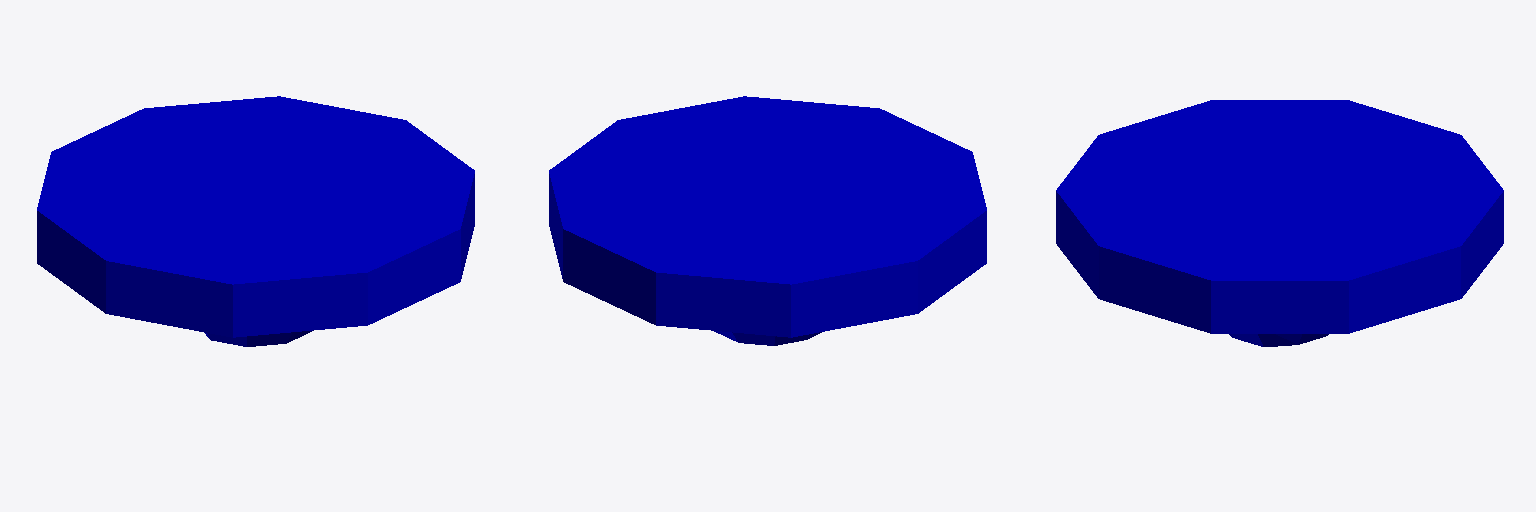
File: 1Ratchet.obj
3 renders of one model, left to right at view 1: azimuth 30°, elevation 25°; view 2: azimuth 150°, elevation 25°; view 3: azimuth 270°, elevation 25°, orthographic.
Visible parts, largest first — view 1: 1Ratchet; view 2: 1Ratchet; view 3: 1Ratchet.
Boxes of the visible parts, x1,y1,x2,y2 form: 1Ratchet: [37, 96, 474, 346]; 1Ratchet: [549, 96, 986, 345]; 1Ratchet: [1056, 100, 1503, 346].
Bounding box in the file's own units: 4.37 × 1.48 × 4.59.